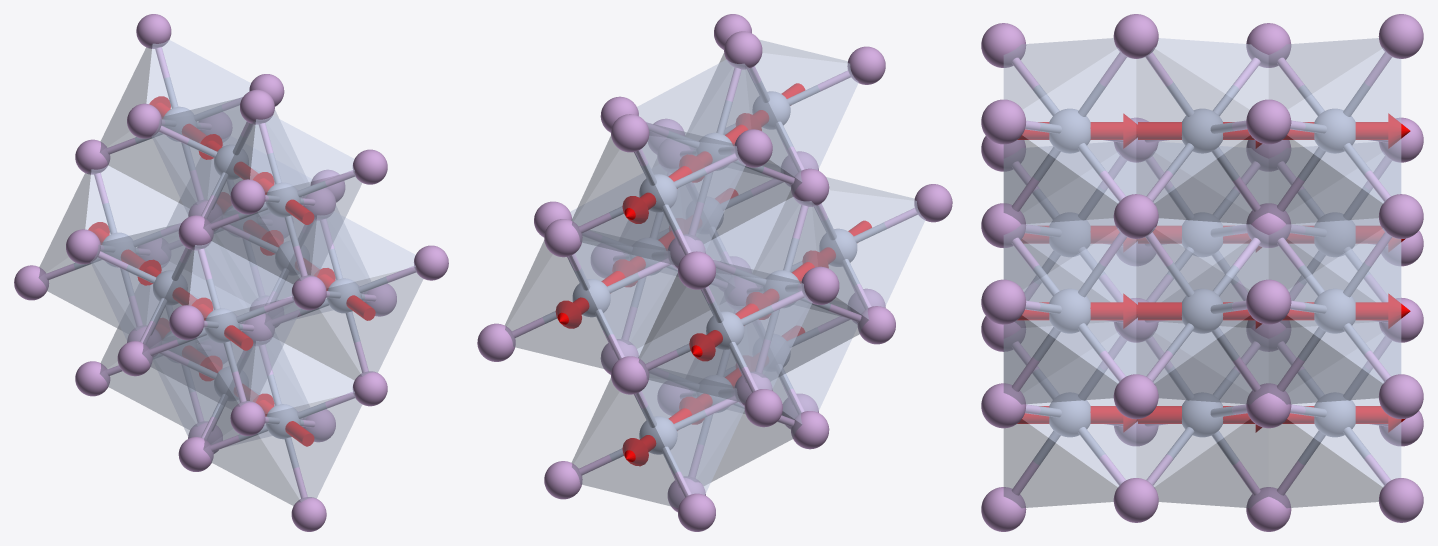
File: CrSb.glb
3 views of the same model, side by side, from view 1: azimuth 30°, elevation 25°; view 2: azimuth 150°, elevation 25°; view 3: azimuth 270°, elevation 25° (orthographic). The views are drawn at different scales.
Visible parts, largest first — view 1: polyhedra, atoms, bonds, magmoms; view 2: polyhedra, atoms, bonds, magmoms; view 3: polyhedra, atoms, bonds, magmoms.
Boxes of the visible parts, <box> form: polyhedra: <box>38,40,423,505</box>; atoms: <box>14,14,448,531</box>; bonds: <box>45,47,415,498</box>; magmoms: <box>88,96,375,446</box>; polyhedra: <box>505,40,925,507</box>; atoms: <box>477,14,952,531</box>; bonds: <box>512,66,917,497</box>; magmoms: <box>555,83,871,466</box>; polyhedra: <box>1003,38,1401,508</box>; atoms: <box>981,14,1423,531</box>; bonds: <box>1011,52,1391,495</box>; magmoms: <box>1017,113,1410,432</box>.
Size of the model in its own units: 9.04 by 12.6 by 9.84.
